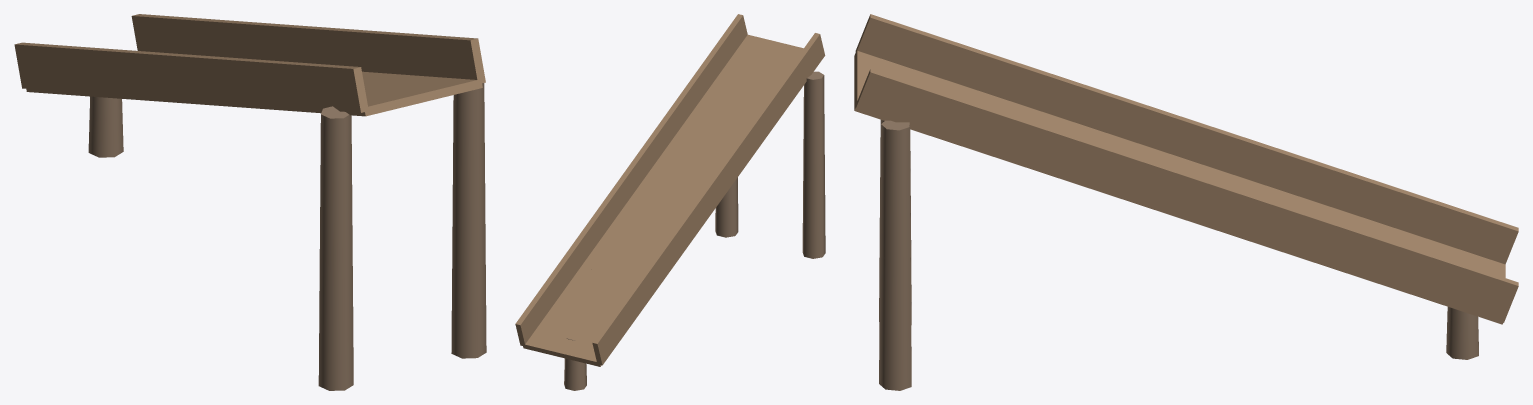
Rendered from build_chute.glb.
3 renders of one model, left to right at view 1: azimuth 30°, elevation 25°; view 2: azimuth 150°, elevation 25°; view 3: azimuth 270°, elevation 25°, orthographic. The views are drawn at different scales.
Parts seen in each view (by area): view 1: Baked; view 2: Baked; view 3: Baked.
Part boxes in pixels (box(x1,y1,x2,y2)): Baked: box(14, 14, 486, 390); Baked: box(515, 14, 825, 390); Baked: box(854, 14, 1518, 390).
Size of the model in its own units: 0.836 by 1.59 by 3.08.
